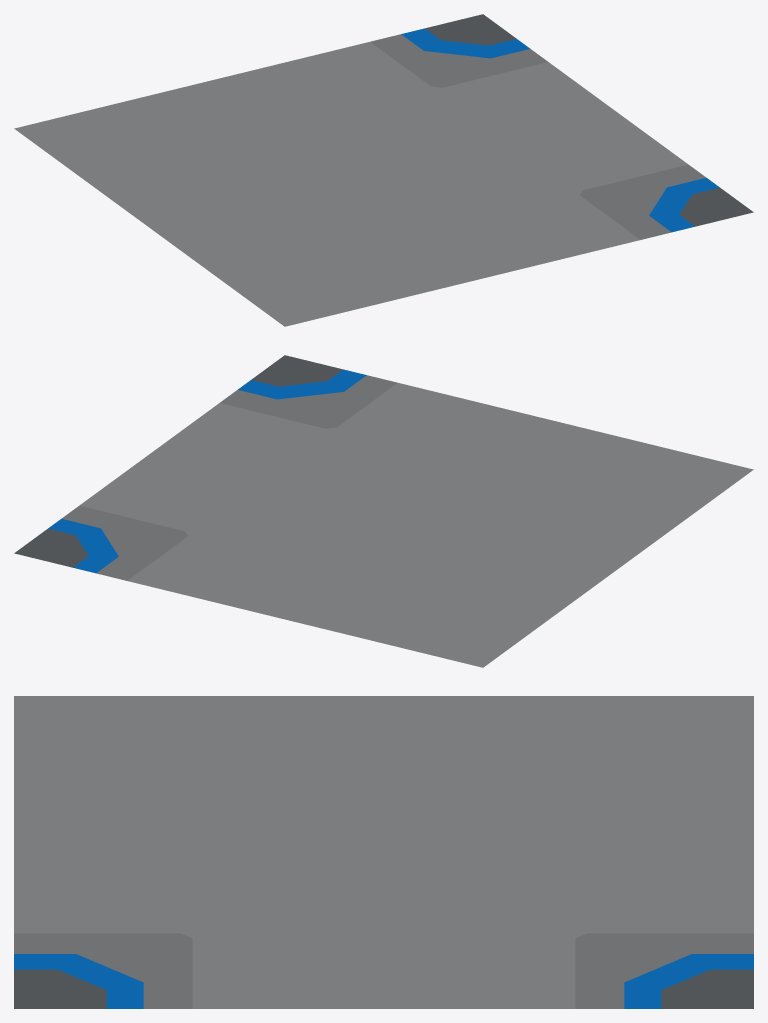
File: Ceiling_type_B_027.fbx
The picture shows the model from 3 angles, top to bottom: view 1: azimuth 30°, elevation 25°; view 2: azimuth 150°, elevation 25°; view 3: azimuth 270°, elevation 25°; orthographic projection. The views are drawn at different scales.
Parts seen in each view (by area): view 1: Ceiling_type_B_027; view 2: Ceiling_type_B_027; view 3: Ceiling_type_B_027.
Part boxes in pixels (x1,y1,x2,y2): Ceiling_type_B_027: (14, 14, 753, 326); Ceiling_type_B_027: (14, 355, 753, 667); Ceiling_type_B_027: (14, 696, 753, 1008).
Size of the model in its own units: 400 by 400 by 6.18.
